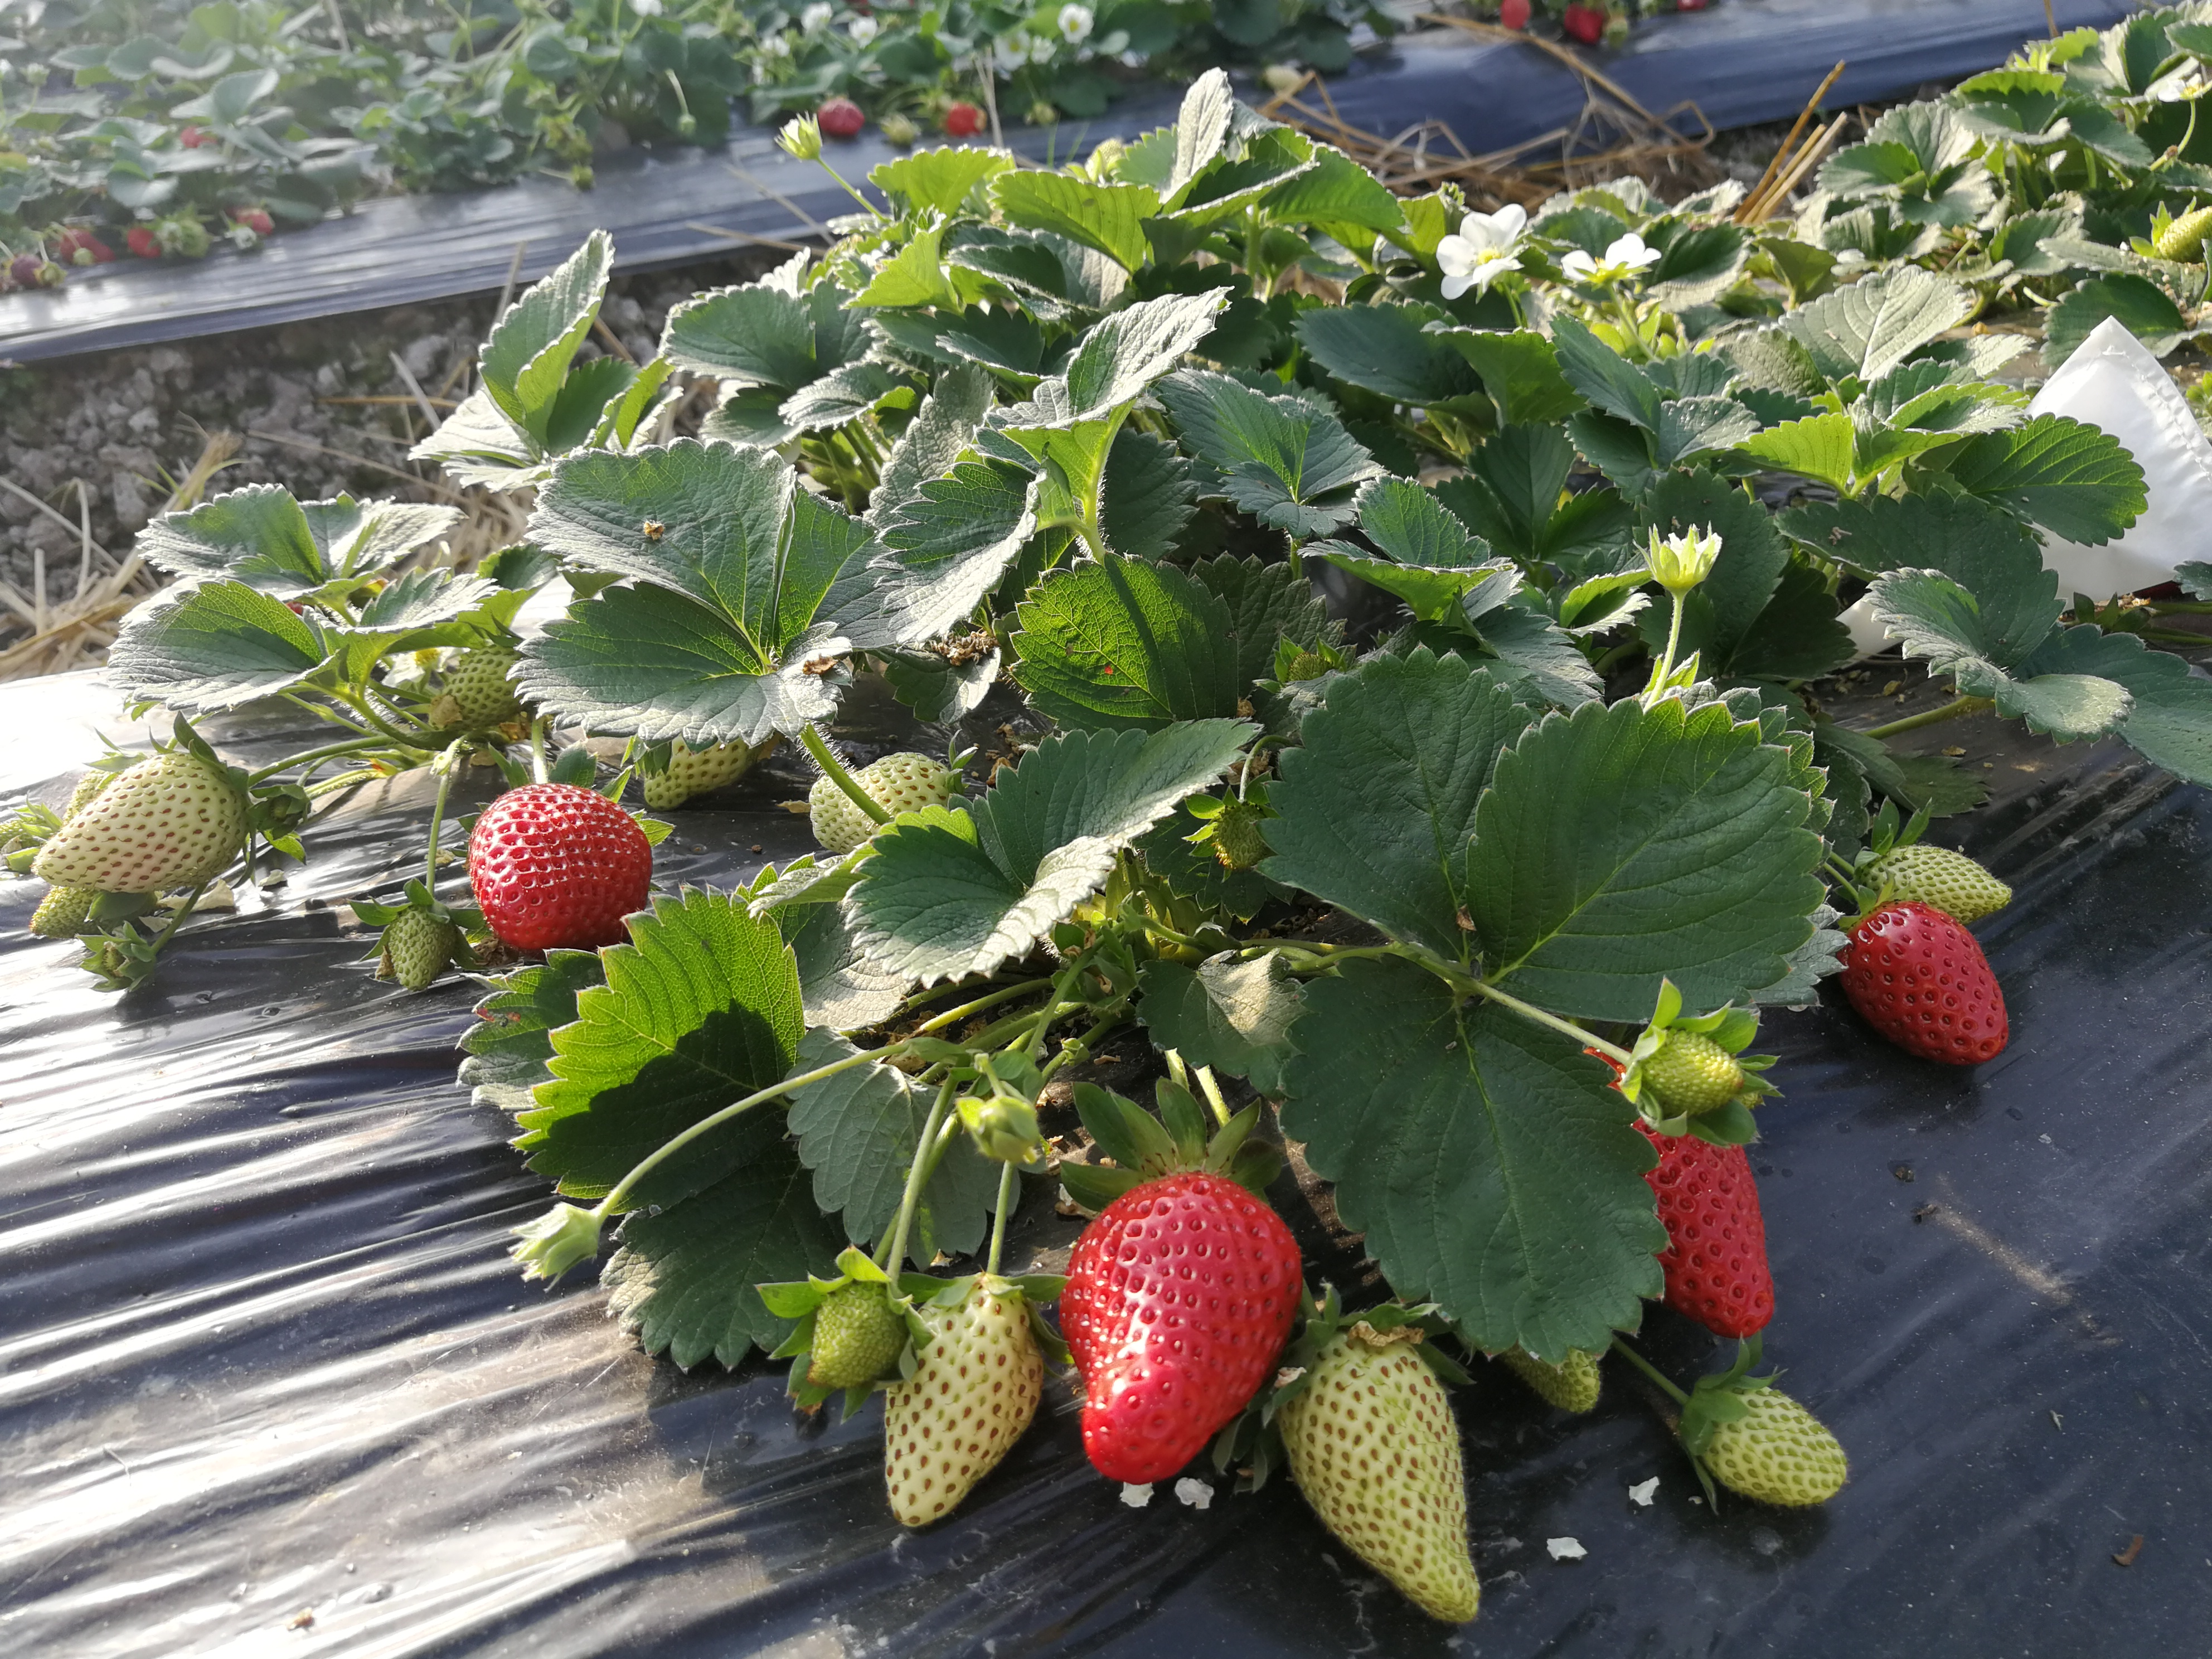StrawberryCone: (1055, 1147, 1320, 1493), (1566, 1037, 1804, 1342), (449, 760, 672, 964), (1838, 903, 2017, 1087)
StrawberryIrremovable: (1275, 1302, 1498, 1626), (19, 730, 254, 946), (880, 1290, 1054, 1523), (1665, 1377, 1883, 1521), (1601, 979, 1756, 1131), (794, 739, 975, 849), (1858, 821, 2019, 934), (625, 706, 770, 814), (421, 634, 549, 742), (801, 1260, 907, 1389), (376, 892, 462, 1012), (1503, 1331, 1604, 1420)
StrawberryRemovable: (1062, 1155, 1310, 1485), (1569, 1037, 1801, 1337), (462, 763, 669, 957), (1841, 904, 2013, 1084)
